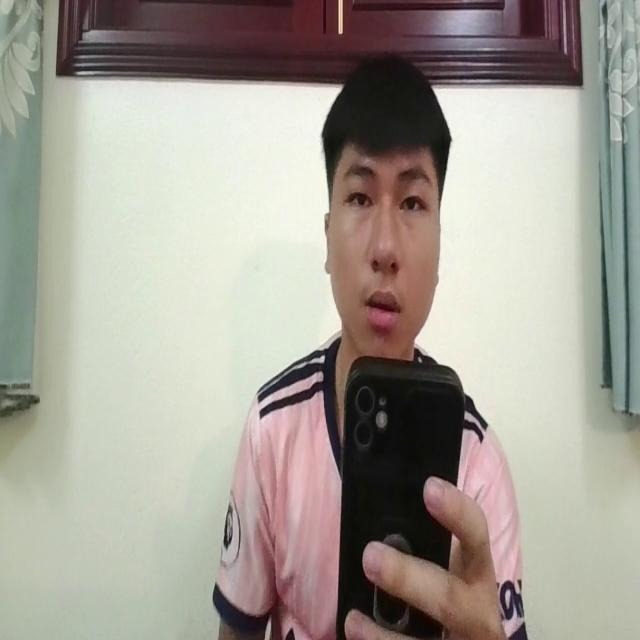phone: (336, 339, 466, 640)
student: (217, 68, 528, 640)
